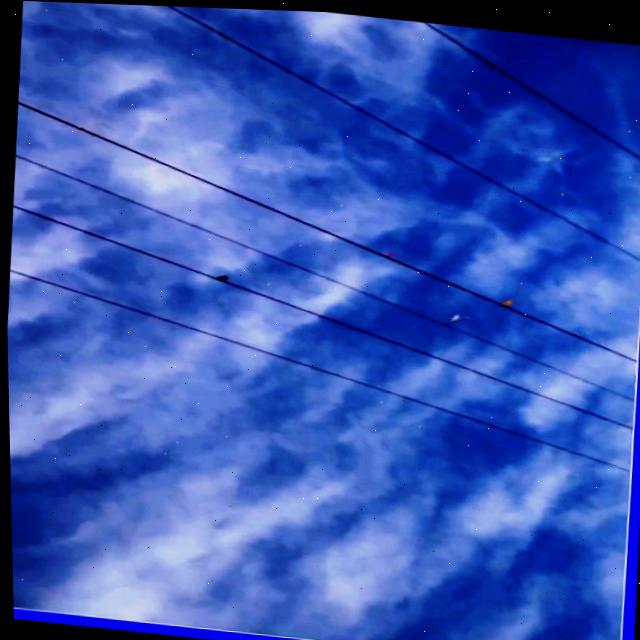obstruction: (498, 296, 510, 302), (447, 311, 456, 318), (381, 250, 390, 255)
wires: (16, 101, 634, 356), (13, 154, 629, 396), (11, 205, 628, 423), (7, 268, 625, 467), (163, 5, 639, 256), (420, 19, 640, 157)
